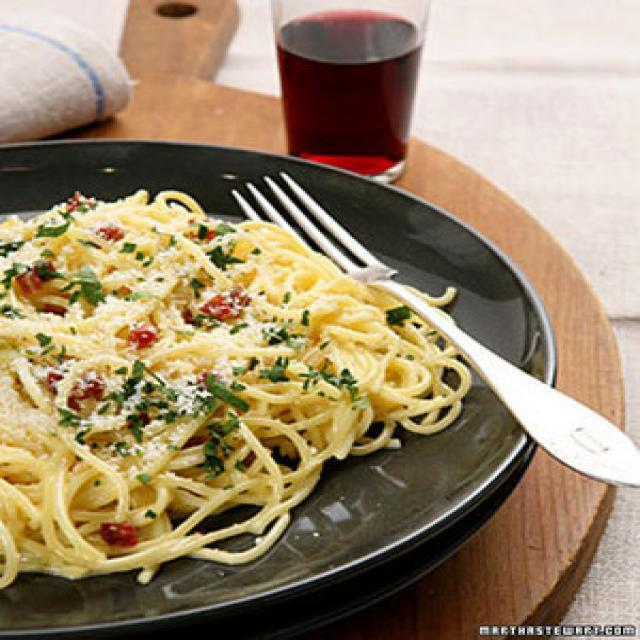Pasta with carbonara sauce: (9, 173, 453, 593)
